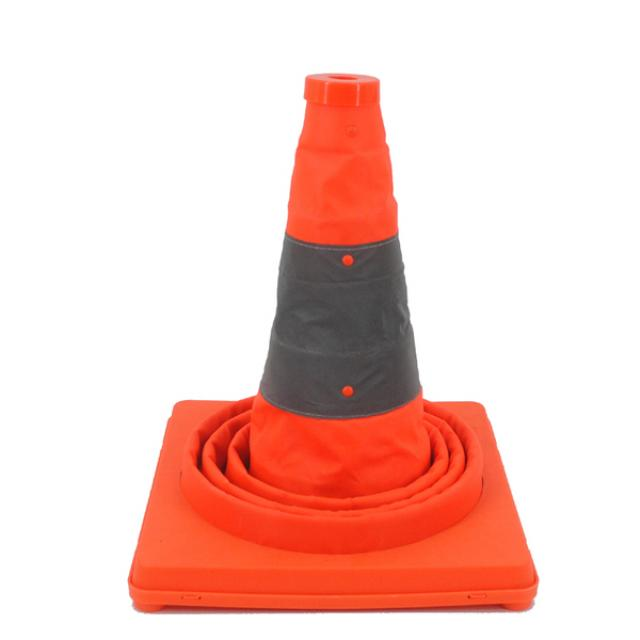reflective_cone: (124, 67, 541, 612)
